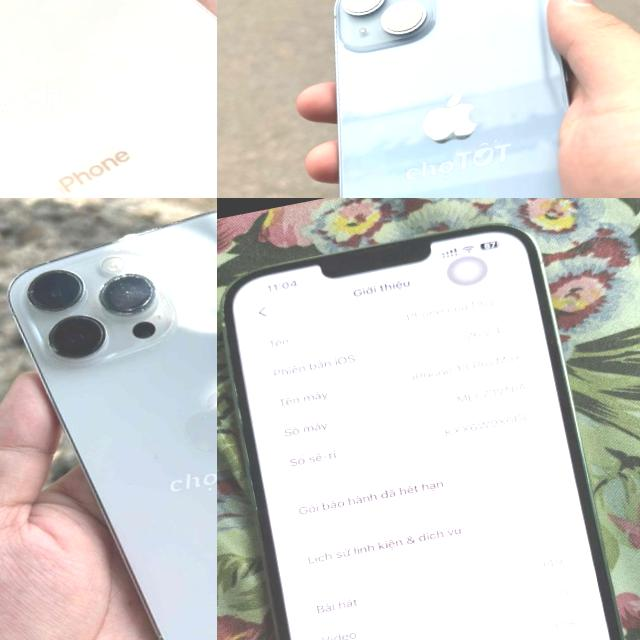gen_12_13: (217, 212, 635, 640)
gen_14: (0, 198, 217, 640), (271, 0, 640, 198)
gen_7_8: (0, 0, 217, 198)
